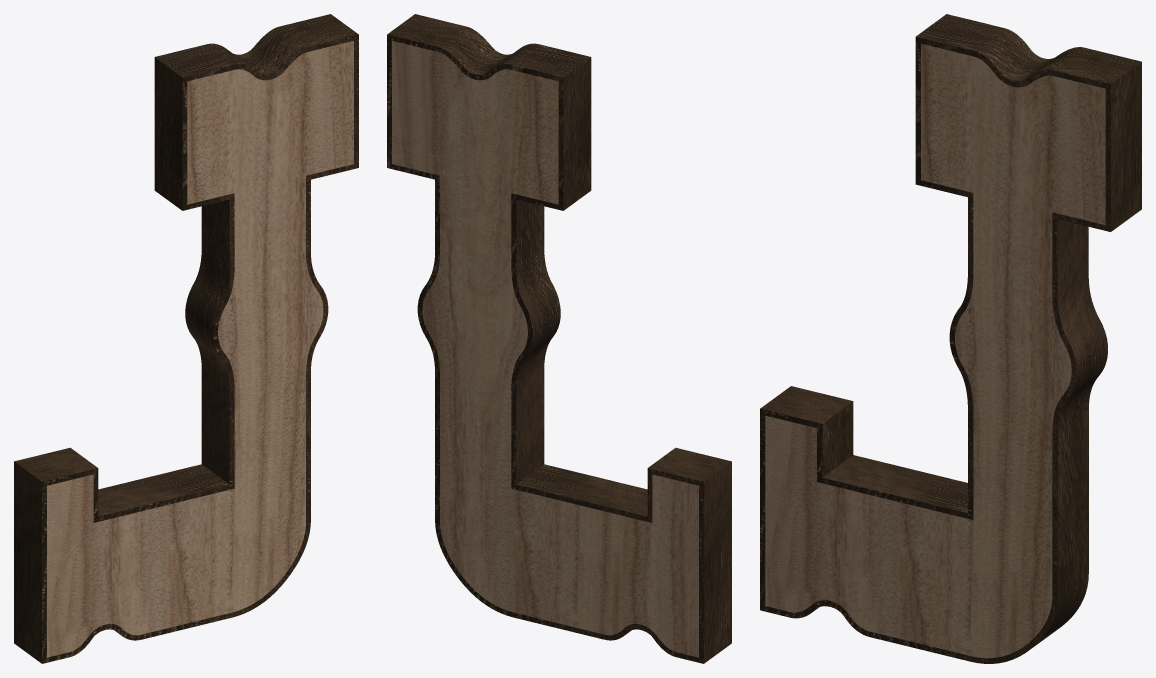
The picture shows the model from 3 angles, left to right: view 1: azimuth 30°, elevation 25°; view 2: azimuth 150°, elevation 25°; view 3: azimuth 330°, elevation 25°; orthographic projection. The views are drawn at different scales.
Visible parts, largest first — view 1: J, J_outline; view 2: J, J_outline; view 3: J, J_outline.
Boxes of the visible parts, x1=… form: J: x1=47, y1=41, x2=353, y2=657; J_outline: x1=14, y1=14, x2=358, y2=663; J: x1=392, y1=41, x2=698, y2=657; J_outline: x1=387, y1=14, x2=731, y2=663; J: x1=765, y1=43, x2=1105, y2=658; J_outline: x1=760, y1=14, x2=1141, y2=663.
Size of the model in its own units: 65.3 by 109 by 10.
2 materials, 2 textured.
